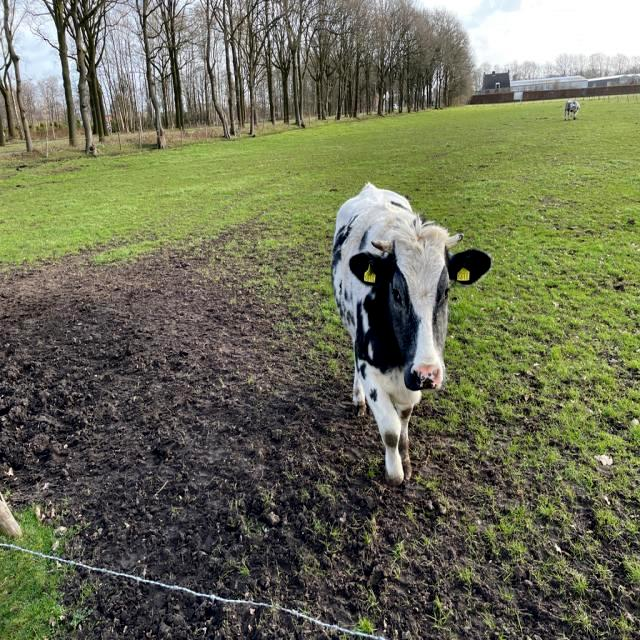COW: (332, 184, 491, 485)
